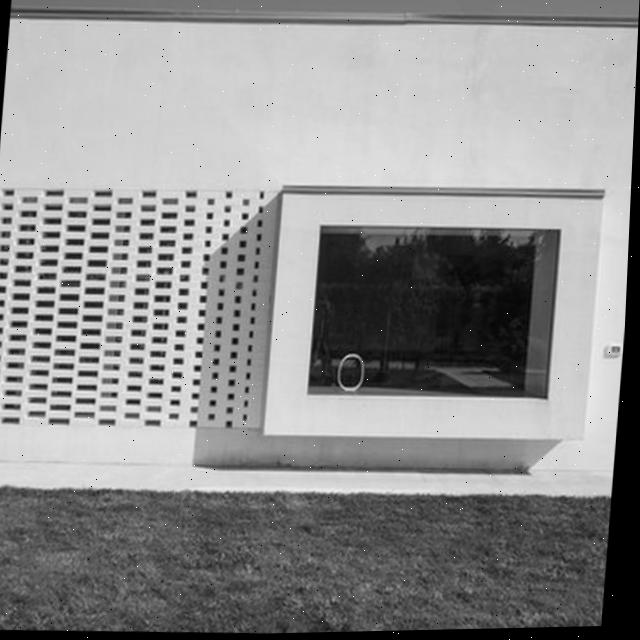building: (0, 0, 640, 483)
